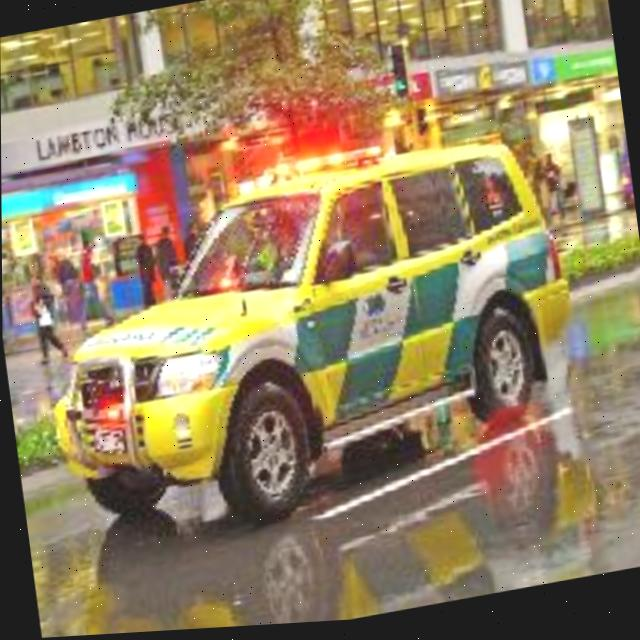emergency: (27, 130, 587, 548)
